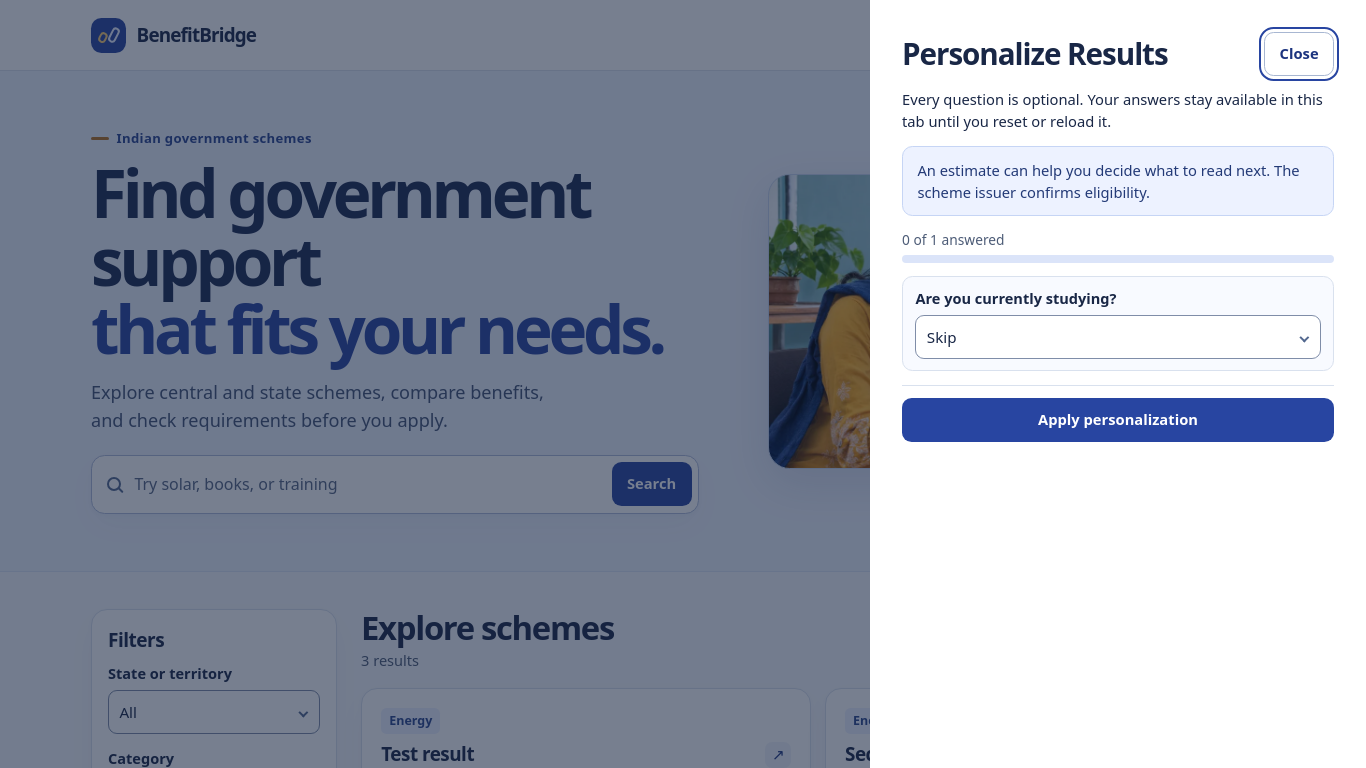
asks only relevant questions, preserves all outcomes, and resets ranking and answers
The width and height of the screenshot is (1366, 768).
Earlier steps of the test are not shown.
Later steps or results of the test are not shown.
Select "Yes" in the dropdown labelled "Are you currently studying?": (1118, 337) [916,315,1321,359]
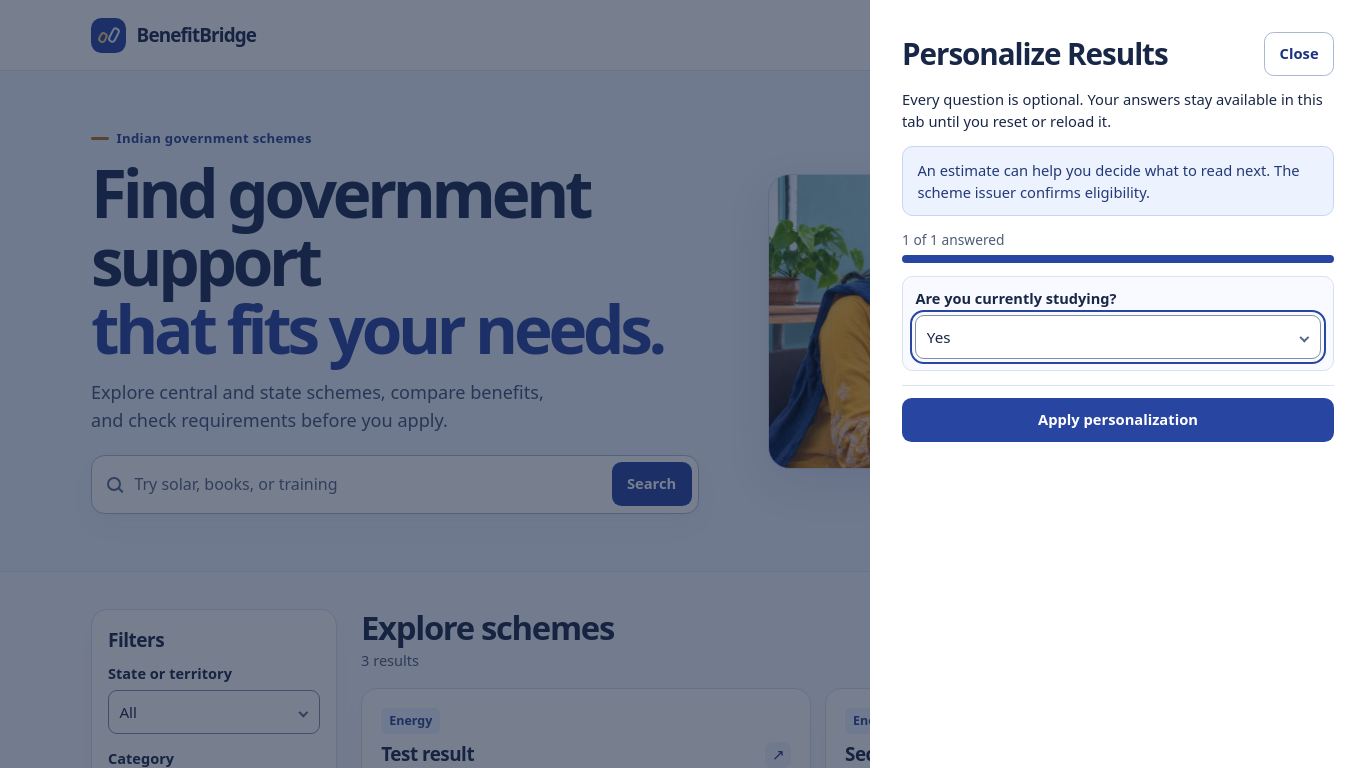
Click the button "Apply personalization": click(1118, 420) [902,398,1334,442]
(page scrolled)
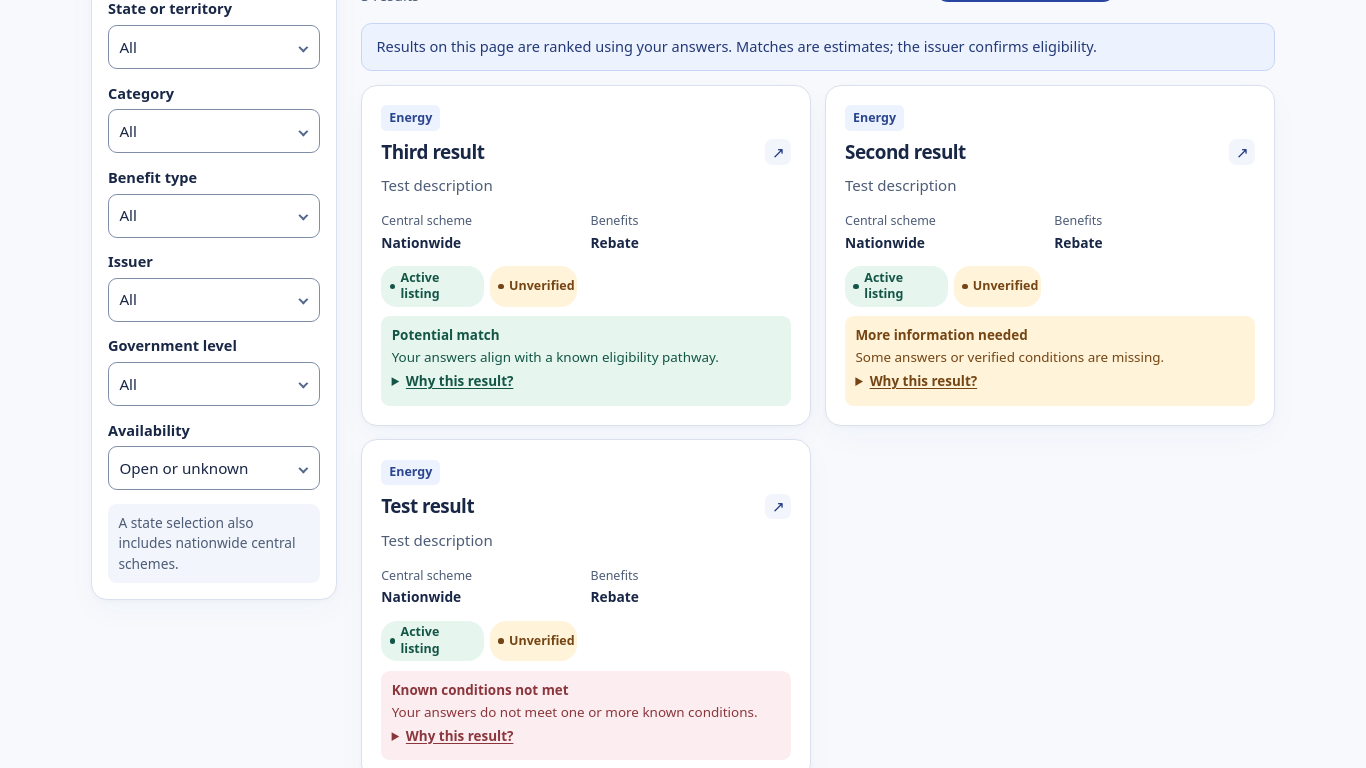
Expected: the text "Potential match" is shown, [392,326,500,344]
Expected: the text "More information needed" is shown, [855,326,1028,344]
Expected: the text "Known conditions not met" is shown, [392,680,569,698]
Click the heading "Why this result?" below "Potential match": click(452, 384) [392,371,513,397]
(page scrolled)
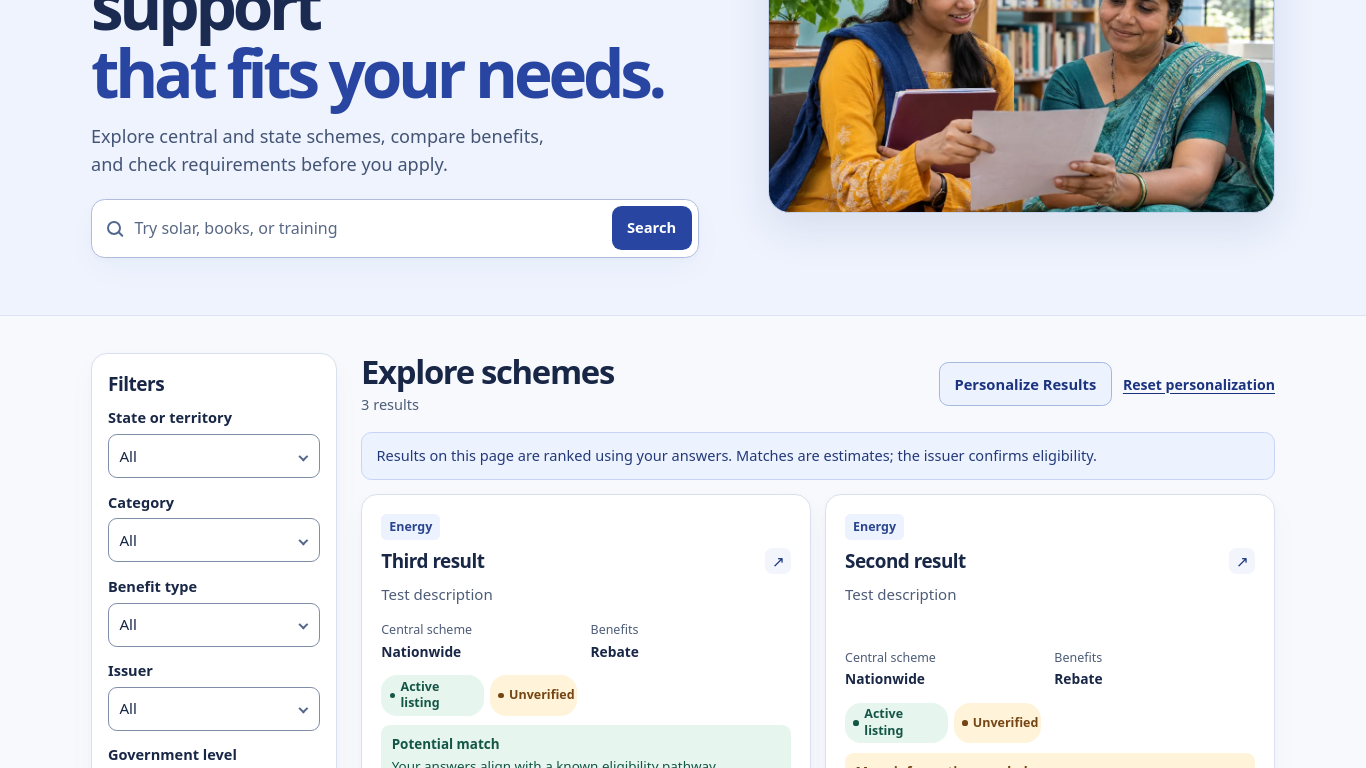
Click the button "Personalize Results": click(1025, 384) [939,362,1112,406]
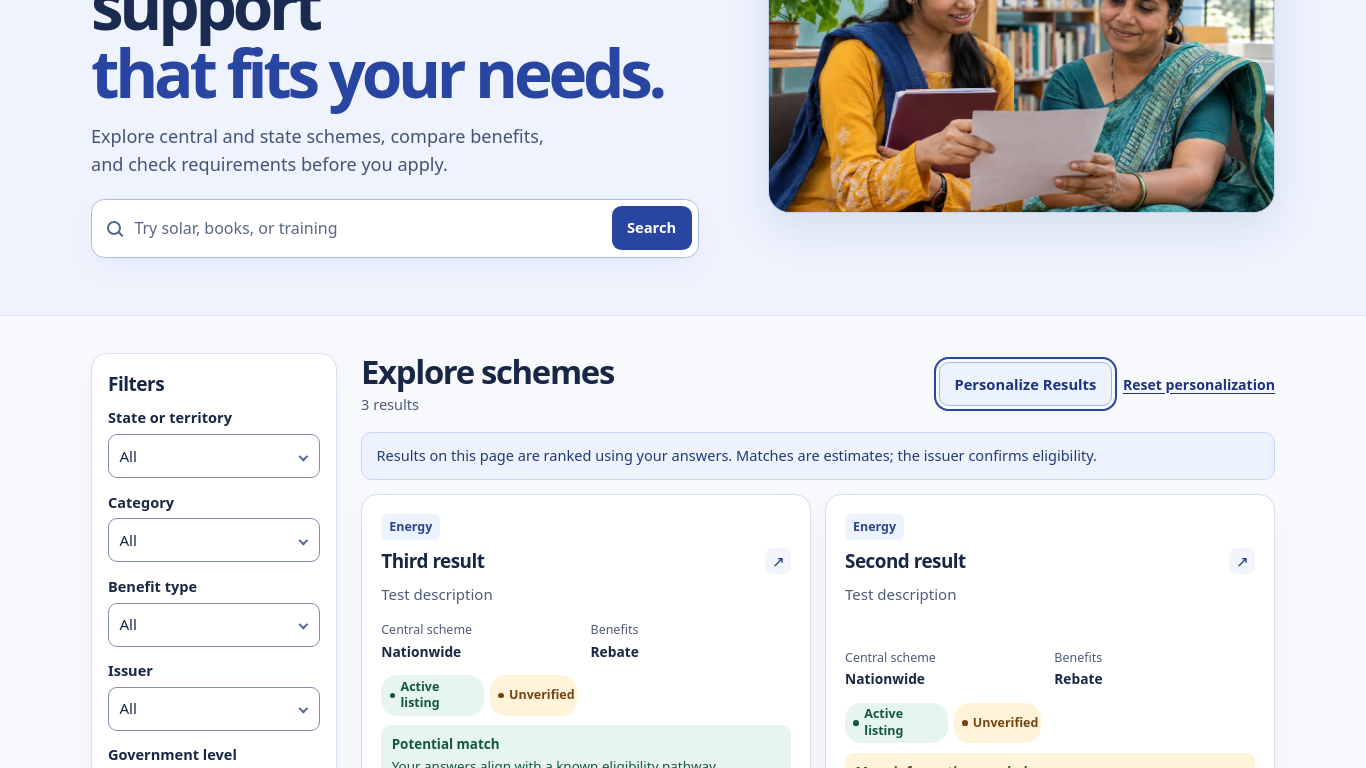
Click the button "Reset personalization": click(1199, 384) [1123,366,1275,402]
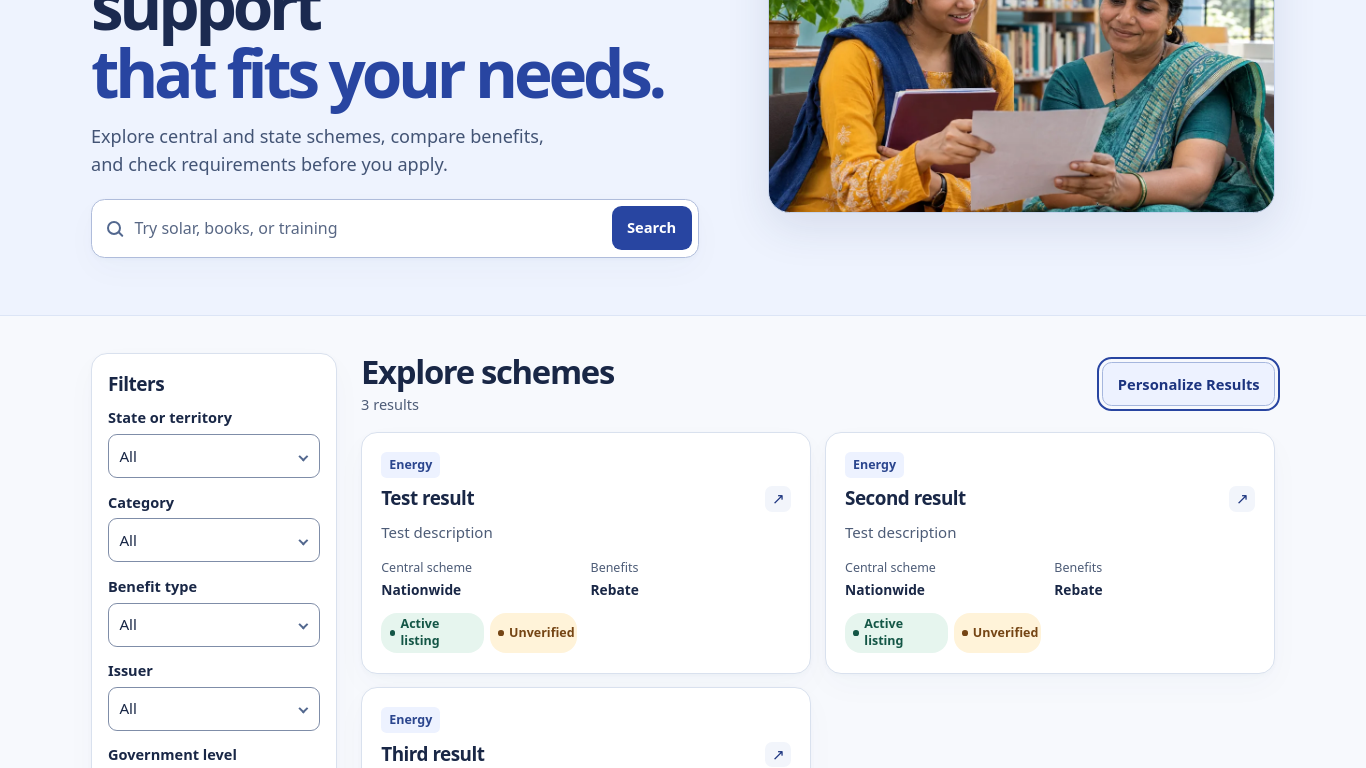
Click the button "Personalize Results": click(1189, 384) [1102,362,1275,406]
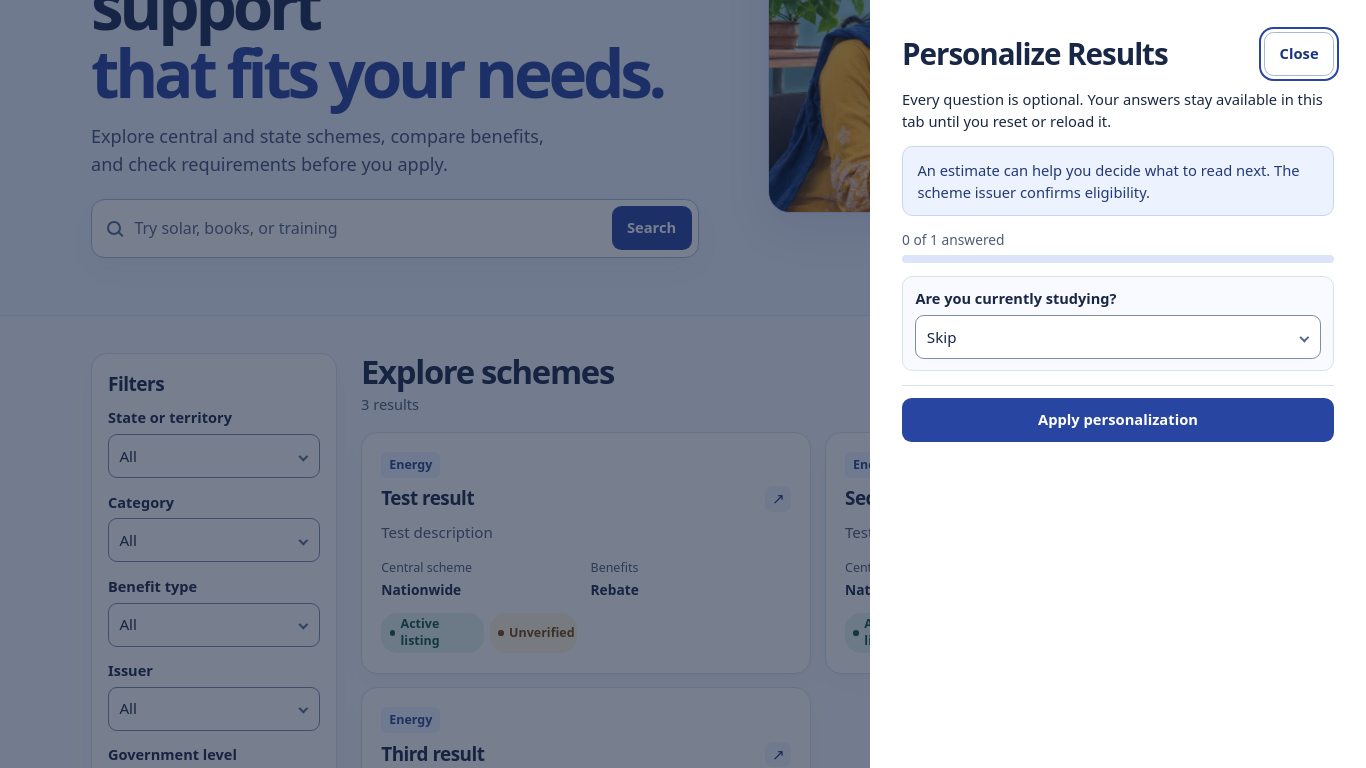
Expected: the dropdown labelled "Are you currently studying?" shows "Skip", [916,315,1321,359]
